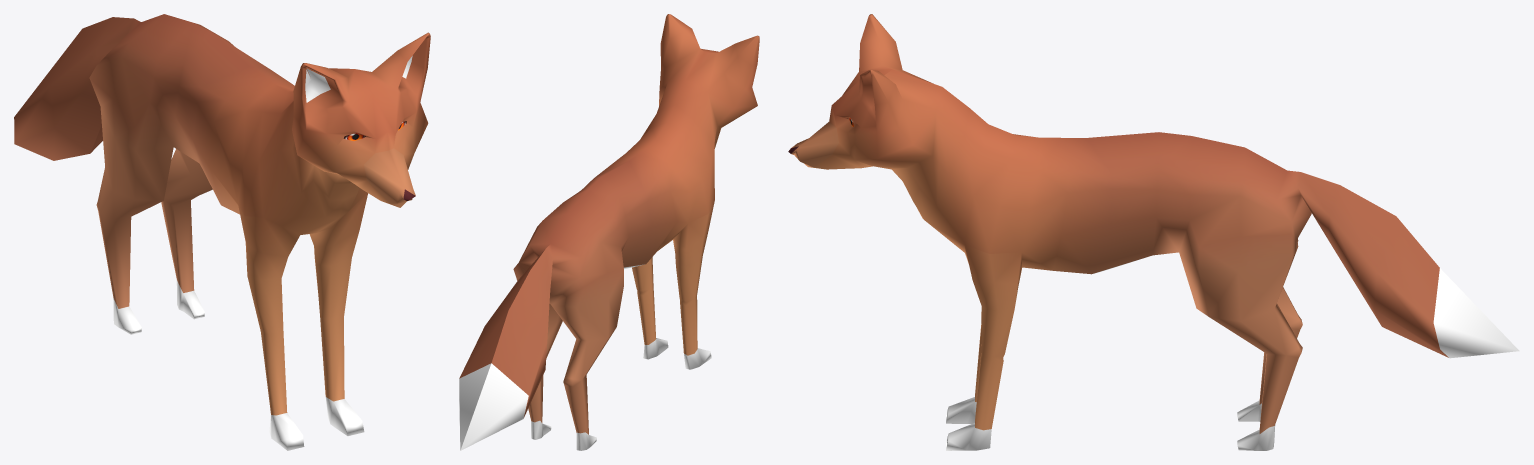
3 views of the same model, side by side, from view 1: azimuth 30°, elevation 25°; view 2: azimuth 150°, elevation 25°; view 3: azimuth 270°, elevation 25° (orthographic). The views are drawn at different scales.
Visible parts, largest first — view 1: Fox01; view 2: Fox01; view 3: Fox01.
Boxes of the visible parts, bbox=[...] form: Fox01: bbox=[14, 14, 430, 450]; Fox01: bbox=[459, 14, 759, 450]; Fox01: bbox=[788, 14, 1519, 450].
Size of what is drawn, in the model's own units: 0.2625 by 0.8092 by 1.37.
Materials: 1 (1 with a texture image).
